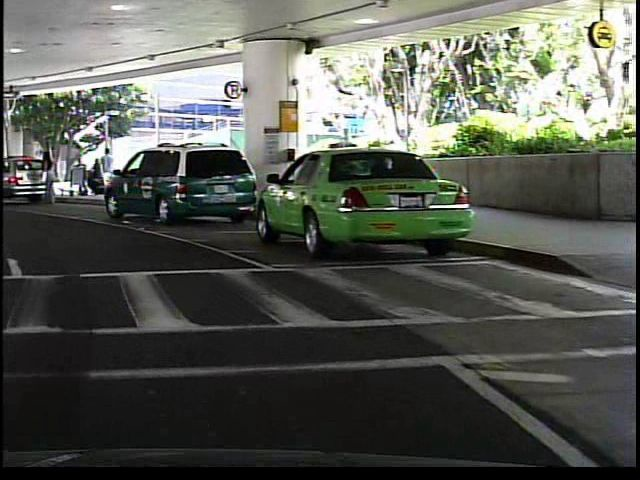person: (37, 152, 56, 206)
